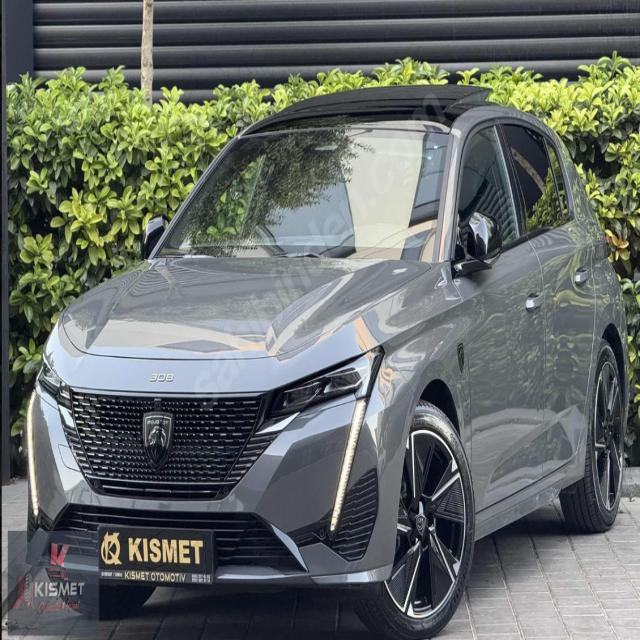pegout: (138, 407, 176, 474)
